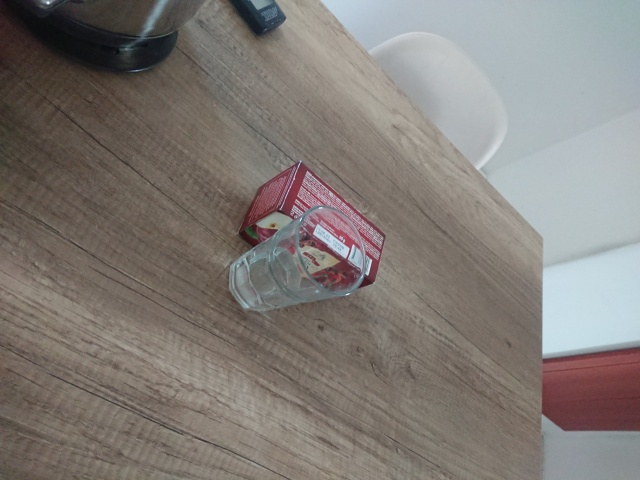Franck Apple Cinnamon Tea 60g: (234, 158, 387, 299)
